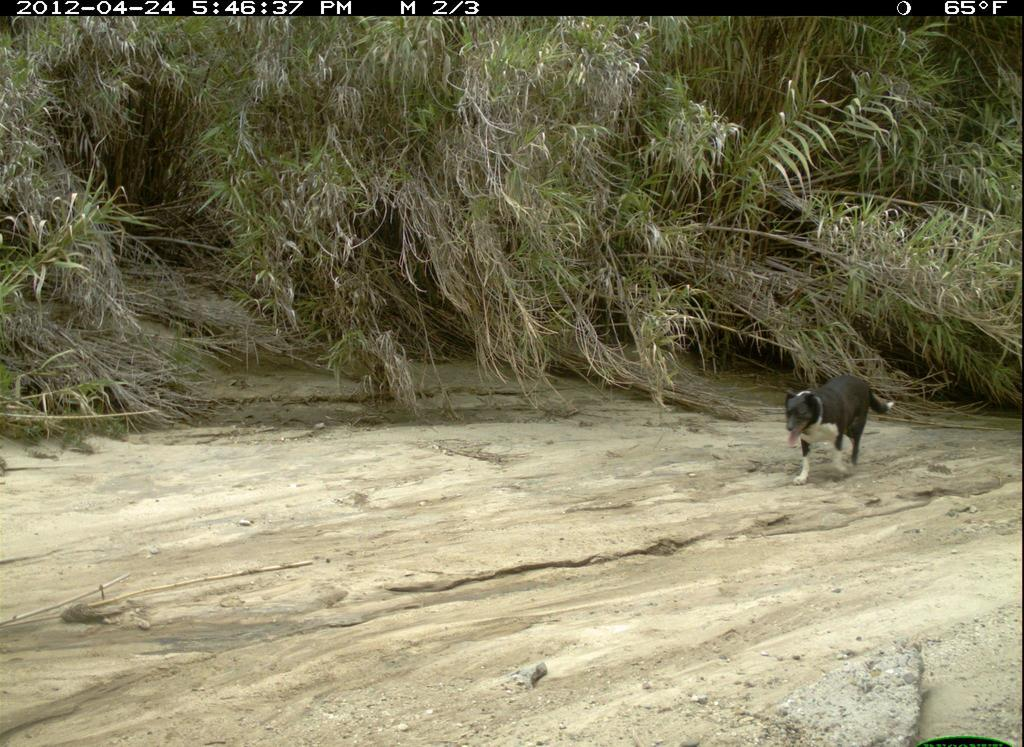dog: (769, 365, 905, 493)
